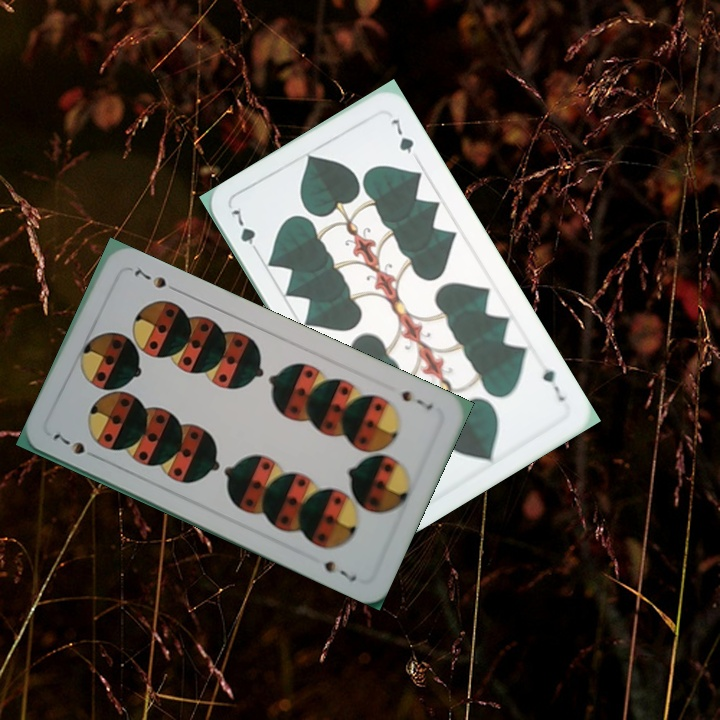G7: (227, 205, 263, 259), (538, 364, 568, 405)
S7: (49, 429, 102, 462), (397, 386, 436, 413)
